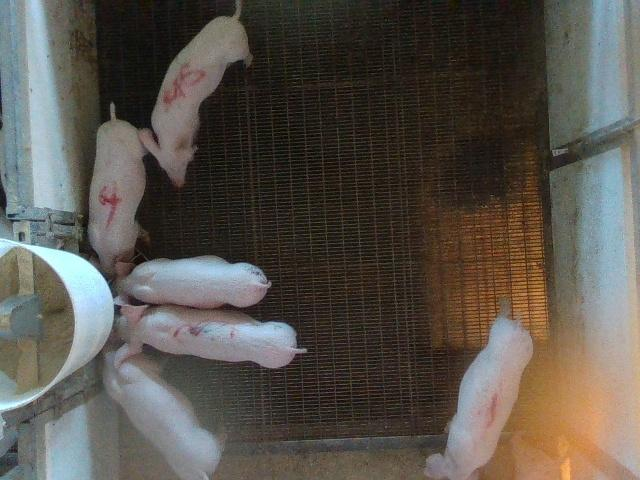pig-1: (424, 304, 532, 479)
pig-3: (115, 305, 306, 368)
pig-4: (88, 104, 146, 278)
pig-5: (138, 1, 251, 186)
